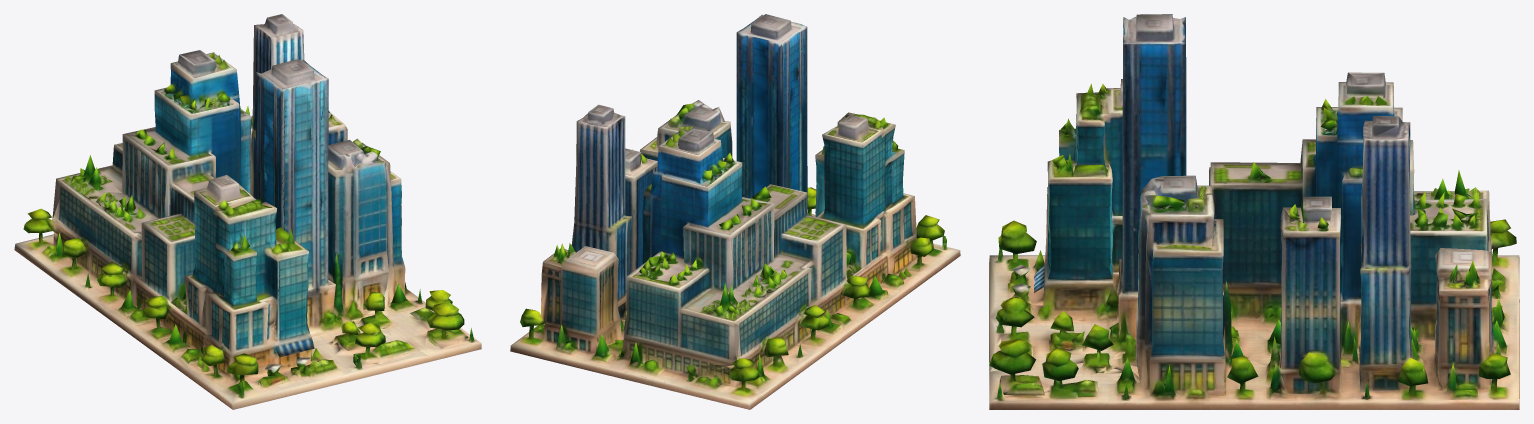
Rendered from block-midtown-a.far.glb.
3 renders of one model, left to right at view 1: azimuth 30°, elevation 25°; view 2: azimuth 150°, elevation 25°; view 3: azimuth 270°, elevation 25°, orthographic. The views are drawn at different scales.
Visible parts, largest first — view 1: low; view 2: low; view 3: low.
Boxes of the visible parts, left/top/right/bottom form: low: left=14, top=14, right=481, bottom=409; low: left=510, top=14, right=960, bottom=409; low: left=989, top=14, right=1519, bottom=409.
Bounding box in the file's own units: 0.6523 × 0.6464 × 0.9804.
Materials: 1 (1 with a texture image).
